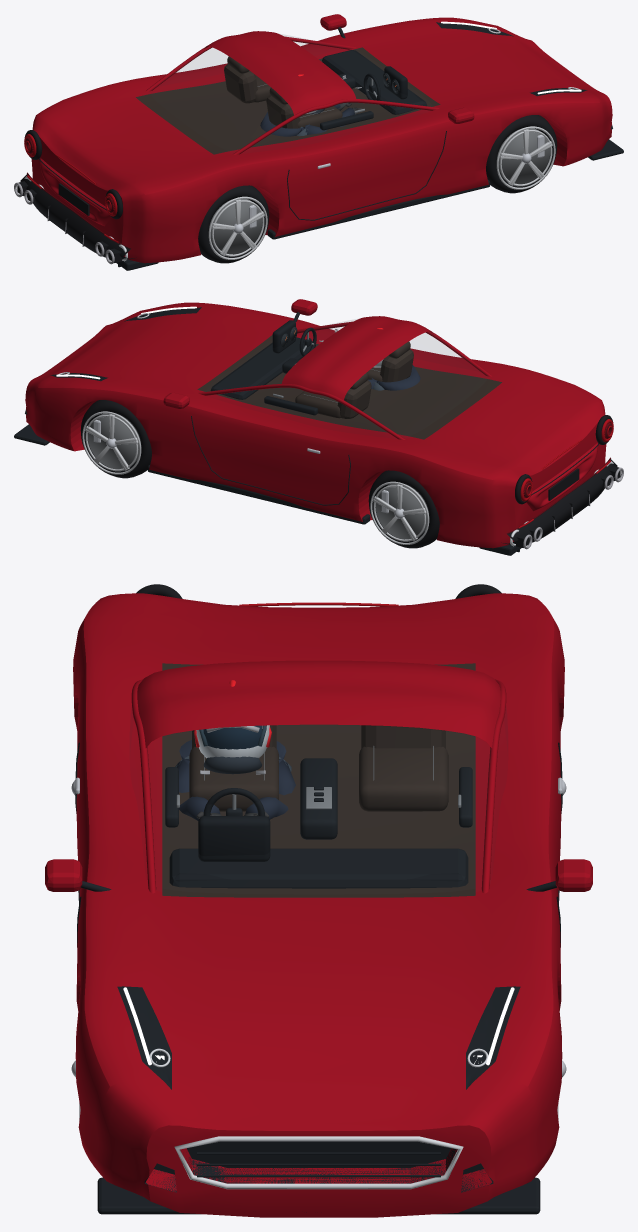
Rendered from ferrari-california-t.glb.
The picture shows the model from 3 angles, top to bottom: view 1: azimuth 30°, elevation 25°; view 2: azimuth 150°, elevation 25°; view 3: azimuth 270°, elevation 25°; orthographic projection. The views are drawn at different scales.
Visible parts, largest first — view 1: body_paint, body_leather, body_carbon_trim, Sculpted rear valance, wheel_fl_rubber, wheel_rl_rubber, wheel_fl_rim, wheel_rl_rim, wheel_fl_disc, wheel_rl_disc, Curved license panel with inset center, Cockpit_V11_seat_cushion (+4 smaller); view 2: body_paint, body_leather, body_carbon_trim, Sculpted rear valance, wheel_fr_rubber, wheel_rr_rubber, wheel_fr_rim, wheel_rr_rim, wheel_fr_disc, wheel_rr_disc, Curved license panel with inset center, Cockpit_V11_seat_cushion.001 (+4 smaller); view 3: body_paint, body_carbon_trim, body_leather, Cockpit_V11_seat_cushion.001, body_chrome, Cockpit_V11_instrument_binnacle, Cockpit_V11_seat_cushion, Cockpit_V11_center_console, HorizonPilotV14_curved_dark_visor, HorizonPilotV14_curved_arm.001, HorizonPilotV14_chin_cradle, HorizonPilotV14_curved_arm.
Boxes of the visible parts, x1,y1,x2,y2 form: body_paint: (31, 14, 612, 263); body_leather: (136, 47, 440, 154); body_carbon_trim: (27, 22, 623, 270); Sculpted rear valance: (20, 174, 136, 259); wheel_fl_rubber: (486, 115, 557, 193); wheel_rl_rubber: (198, 185, 269, 263); wheel_fl_rim: (496, 126, 555, 189); wheel_rl_rim: (208, 196, 267, 259); wheel_fl_disc: (496, 128, 550, 184); wheel_rl_disc: (208, 198, 262, 254); Curved license panel with inset center: (39, 158, 111, 226); Cockpit_V11_seat_cushion: (297, 106, 342, 128); body_paint: (25, 299, 606, 548); body_leather: (197, 335, 501, 439); body_carbon_trim: (14, 307, 610, 555); Sculpted rear valance: (501, 459, 617, 544); wheel_fr_rubber: (80, 400, 151, 478); wheel_rr_rubber: (368, 470, 439, 548); wheel_fr_rim: (82, 411, 141, 474); wheel_rr_rim: (370, 481, 429, 544); wheel_fr_disc: (87, 413, 141, 469); wheel_rr_disc: (375, 483, 429, 539); Curved license panel with inset center: (526, 443, 597, 511); Cockpit_V11_seat_cushion.001: (295, 391, 341, 418); body_paint: (45, 593, 592, 1217); body_carbon_trim: (75, 742, 562, 1214); body_leather: (162, 663, 475, 897); Cockpit_V11_seat_cushion.001: (359, 746, 448, 811); body_chrome: (149, 1048, 488, 1189); Cockpit_V11_instrument_binnacle: (198, 816, 270, 861); Cockpit_V11_seat_cushion: (189, 746, 278, 811); Cockpit_V11_center_console: (300, 758, 337, 839); HorizonPilotV14_curved_dark_visor: (203, 725, 261, 749); HorizonPilotV14_curved_arm.001: (245, 759, 295, 819); HorizonPilotV14_chin_cradle: (203, 756, 261, 774); HorizonPilotV14_curved_arm: (177, 758, 220, 820).
Bounding box in the file's own units: 4.71 × 1.26 × 2.2.
